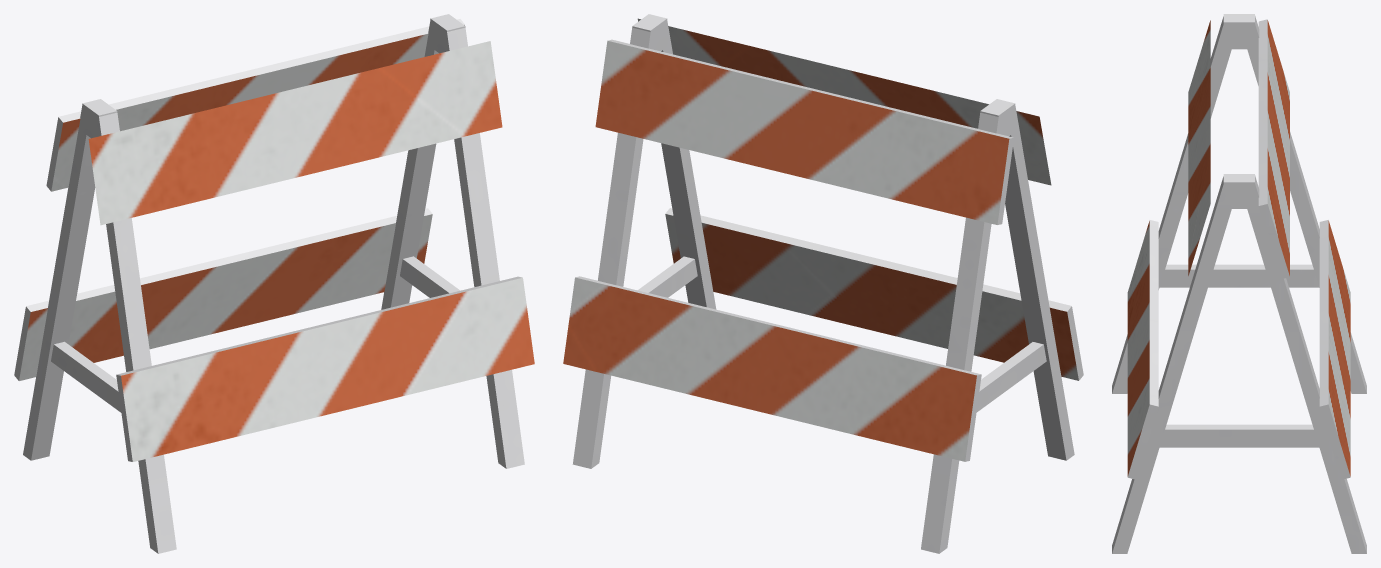
Rendered from A_Barricade_Traffic.fbx.
3 renders of one model, left to right at view 1: azimuth 30°, elevation 25°; view 2: azimuth 150°, elevation 25°; view 3: azimuth 270°, elevation 25°, orthographic. The views are drawn at different scales.
Visible parts, largest first — view 1: A_Barricade_Traffic; view 2: A_Barricade_Traffic; view 3: A_Barricade_Traffic.
Boxes of the visible parts, <box> form: A_Barricade_Traffic: <box>14,14,534,553</box>; A_Barricade_Traffic: <box>563,14,1083,553</box>; A_Barricade_Traffic: <box>1112,14,1366,553</box>.
Size of the model in its own units: 102 by 95.98 by 59.66.
1 material, 1 textured.
